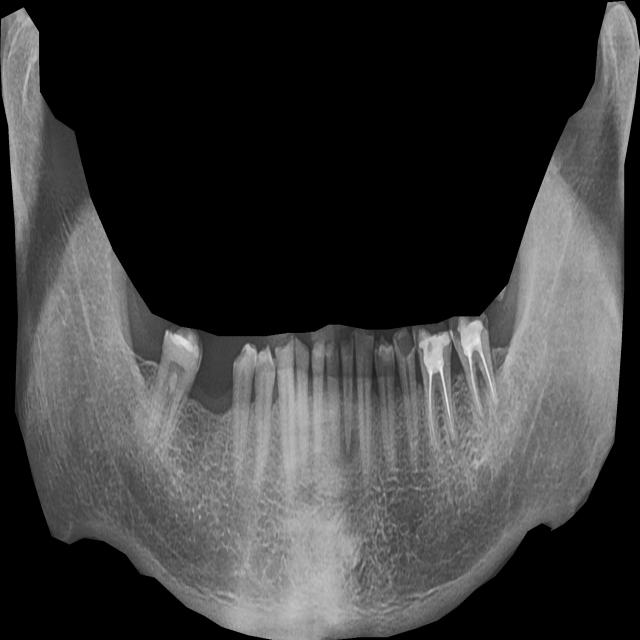mandibula: (0, 1, 640, 640)
